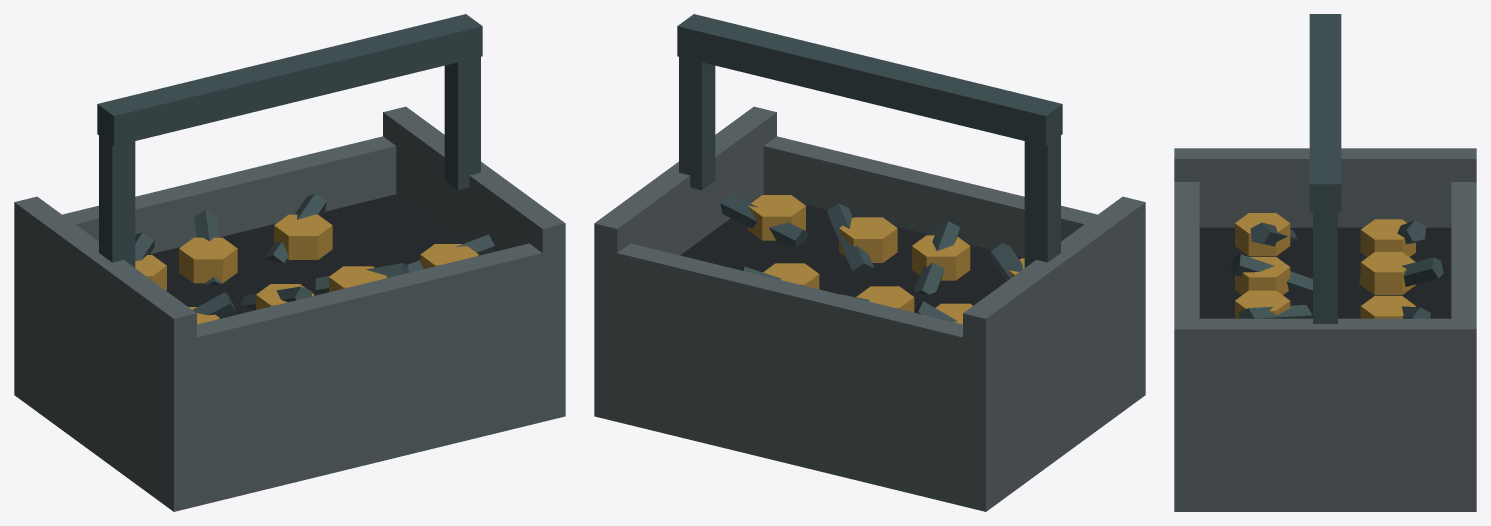
Rendered from scrap_bolt_box.fbx.
3 views of the same model, side by side, from view 1: azimuth 30°, elevation 25°; view 2: azimuth 150°, elevation 25°; view 3: azimuth 270°, elevation 25° (orthographic). The views are drawn at different scales.
Visible parts, largest first — view 1: scrap_bolt_box; view 2: scrap_bolt_box; view 3: scrap_bolt_box.
Boxes of the visible parts, <box> form: scrap_bolt_box: <box>14,14,565,511</box>; scrap_bolt_box: <box>594,14,1145,511</box>; scrap_bolt_box: <box>1174,14,1476,511</box>.
Bounding box in the file's own units: 0.34 × 0.2825 × 0.24.
Materials: 1 (1 with a texture image).
